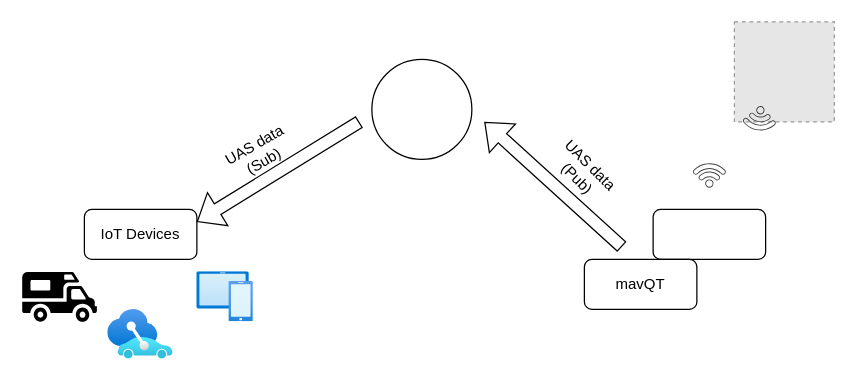
This 856x381 diagram has some shape labels left out. Grey dashed boxes stand in for pictures. Here are the shapes that lost their labels. From the top down, the centre of each, then its label:
point (421, 108): MQTT Broker
point (709, 233): Ground control station
